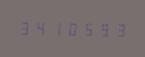five: (77, 20, 91, 37)
four: (32, 19, 46, 36)
nine: (92, 20, 106, 37)
one: (47, 19, 61, 36)
three: (17, 19, 31, 36), (107, 20, 121, 37)
zero: (62, 19, 76, 37)
